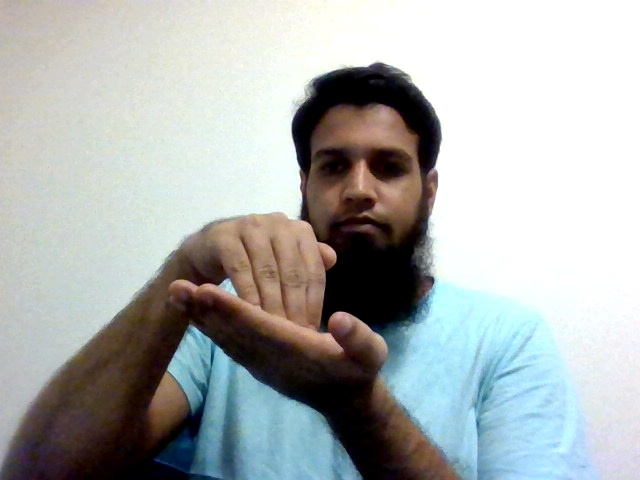again: (164, 209, 390, 415)
